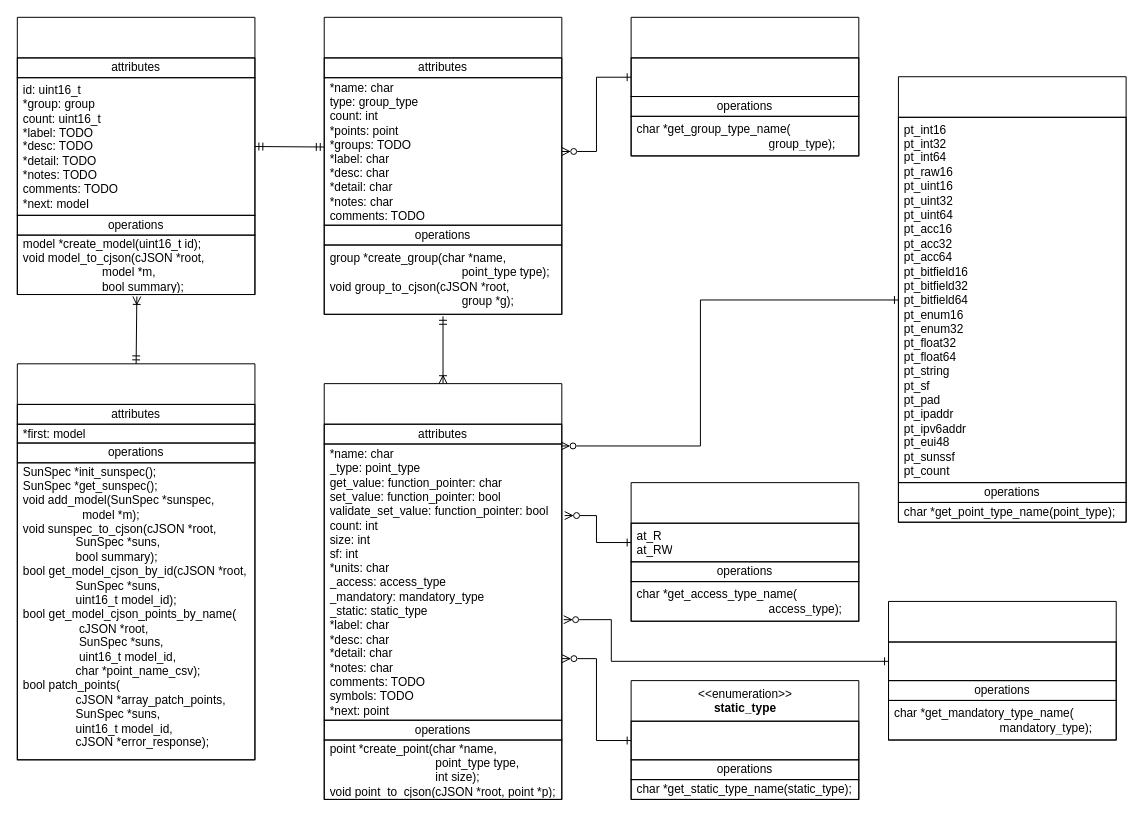
The diagram is 1143 pixels wide and 817 high, and some of its shapes have lost their labels. The box of each missing label's shape, as (x1, y1, x2, y2) in pixels:
<<enumeration>> access_type: (630, 482, 859, 621)
<<enumeration>> group_type: (630, 16, 859, 156)
<<enumeration>> mandatory_type: (888, 600, 1116, 740)
<<enumeration>> point_type: (897, 76, 1126, 522)
<<struct>> group: (323, 16, 562, 314)
<<struct>> model: (16, 16, 255, 295)
<<struct>> point: (323, 383, 562, 799)
<<struct>> SunsPec: (16, 363, 255, 760)
gt_group gt_sync: (630, 57, 859, 97)
mt_M mt_O: (888, 641, 1116, 681)
st_D st_S: (630, 720, 859, 760)
